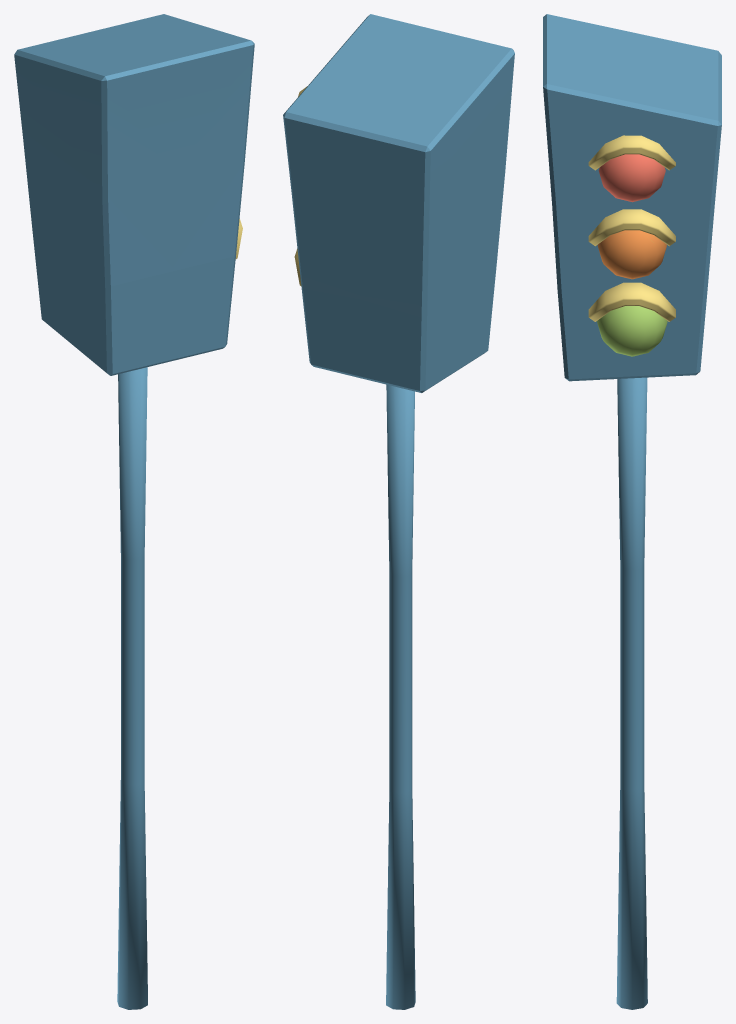
Rendered from TrafficLights.fbx.
The picture shows the model from 3 angles, left to right: view 1: azimuth 30°, elevation 25°; view 2: azimuth 150°, elevation 25°; view 3: azimuth 270°, elevation 25°; orthographic projection. The views are drawn at different scales.
Visible parts, largest first — view 1: Pole; view 2: Pole; view 3: Pole.
Boxes of the visible parts, x1=… form: Pole: x1=14, y1=14, x2=254, y2=1009; Pole: x1=283, y1=14, x2=514, y2=1009; Pole: x1=543, y1=14, x2=721, y2=1009.
Bounding box in the file's own units: 232 × 1233 × 209.
Materials: 3 (3 with a texture image).
